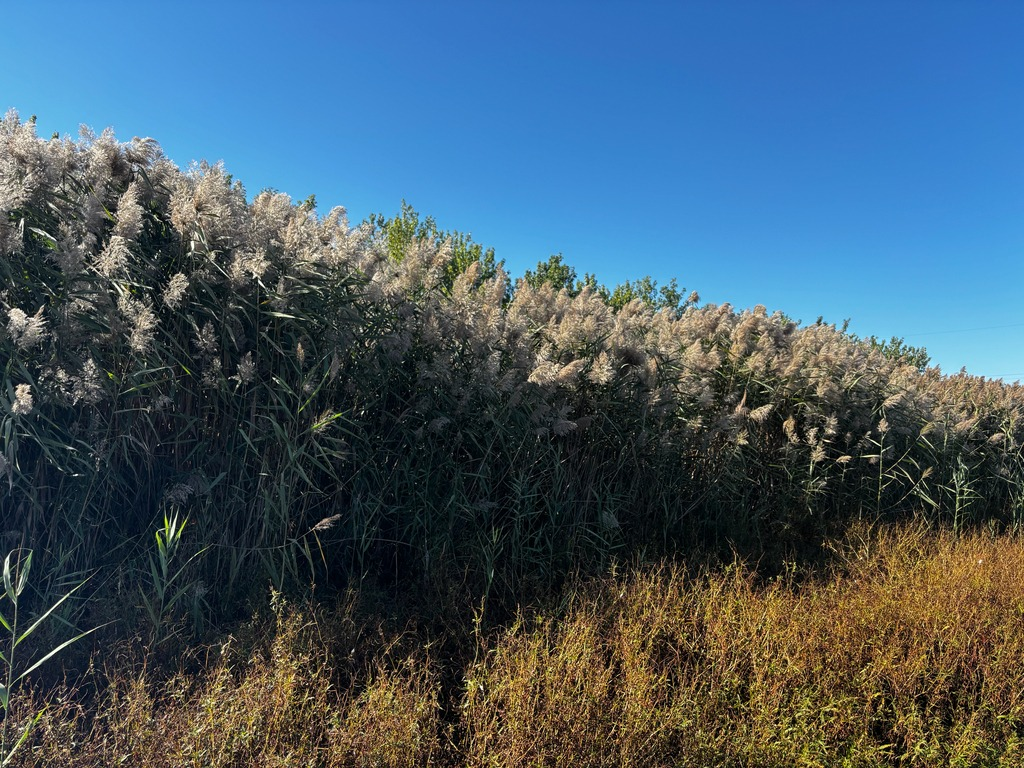common reed: (3, 107, 1020, 764)
